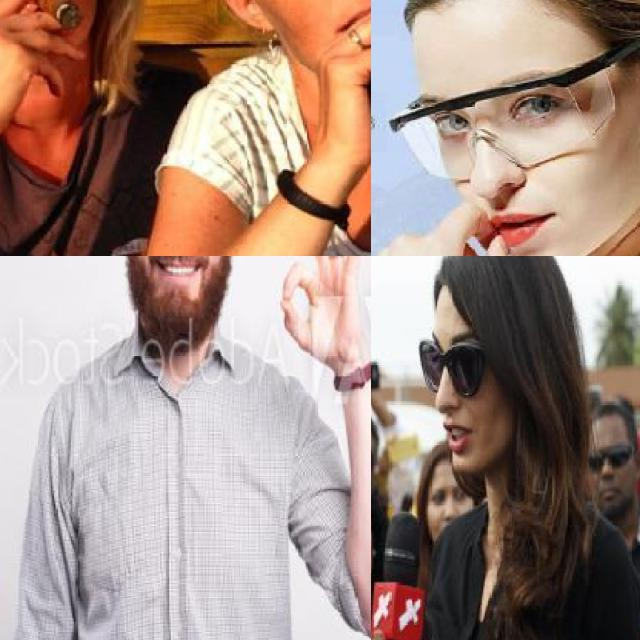No_Ear-Protection: (210, 0, 281, 45)
face_nomask: (433, 81, 592, 256), (424, 346, 504, 467), (268, 0, 371, 34), (586, 446, 636, 507), (136, 256, 225, 290)
glasses: (402, 256, 639, 640), (388, 26, 640, 182), (414, 334, 514, 399), (582, 441, 640, 478)
hand_noglove: (274, 256, 371, 379), (0, 0, 88, 113), (371, 191, 518, 256), (311, 1, 371, 110)
head_nohelmet: (423, 256, 561, 315), (400, 0, 640, 29), (587, 392, 640, 430)
person: (23, 256, 371, 640), (371, 0, 640, 256)
